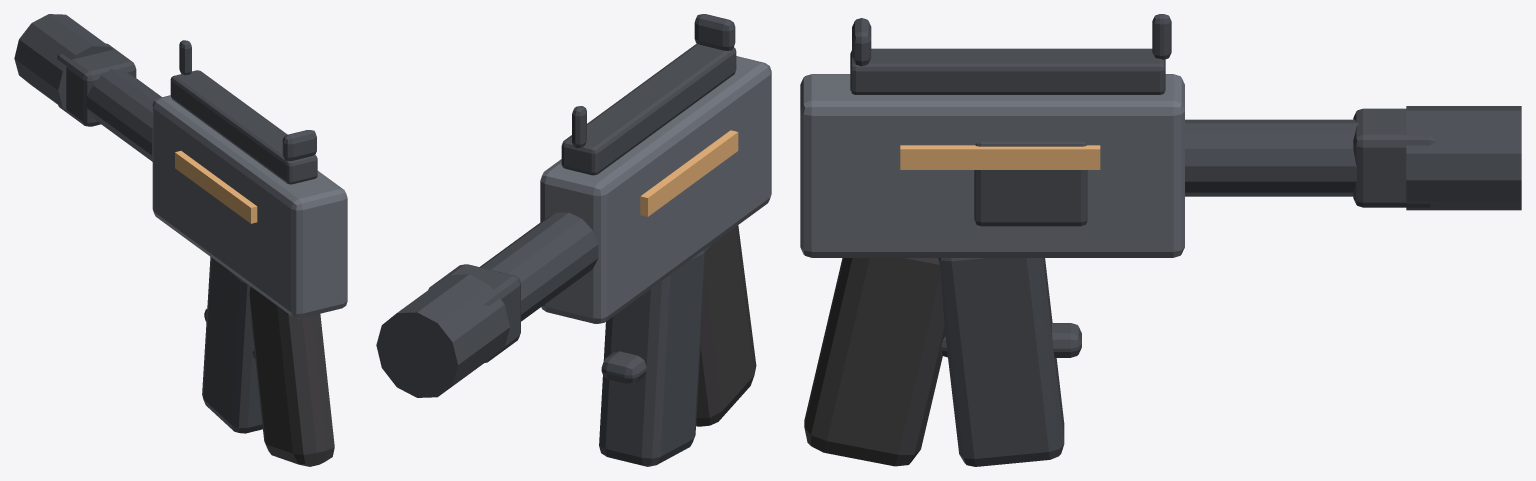
The model's file is WPN_HandCannon.fbx.
3 renders of one model, left to right at view 1: azimuth 30°, elevation 25°; view 2: azimuth 150°, elevation 25°; view 3: azimuth 270°, elevation 25°, orthographic. The views are drawn at different scales.
Visible parts, largest first — view 1: WPN_HandCannon; view 2: WPN_HandCannon; view 3: WPN_HandCannon.
Boxes of the visible parts, x1,y1,x2,y2 form: WPN_HandCannon: (14,14,347,466); WPN_HandCannon: (376,14,771,466); WPN_HandCannon: (800,14,1521,466).
Size of the model in its own units: 0.0544 by 0.257 by 0.375.
